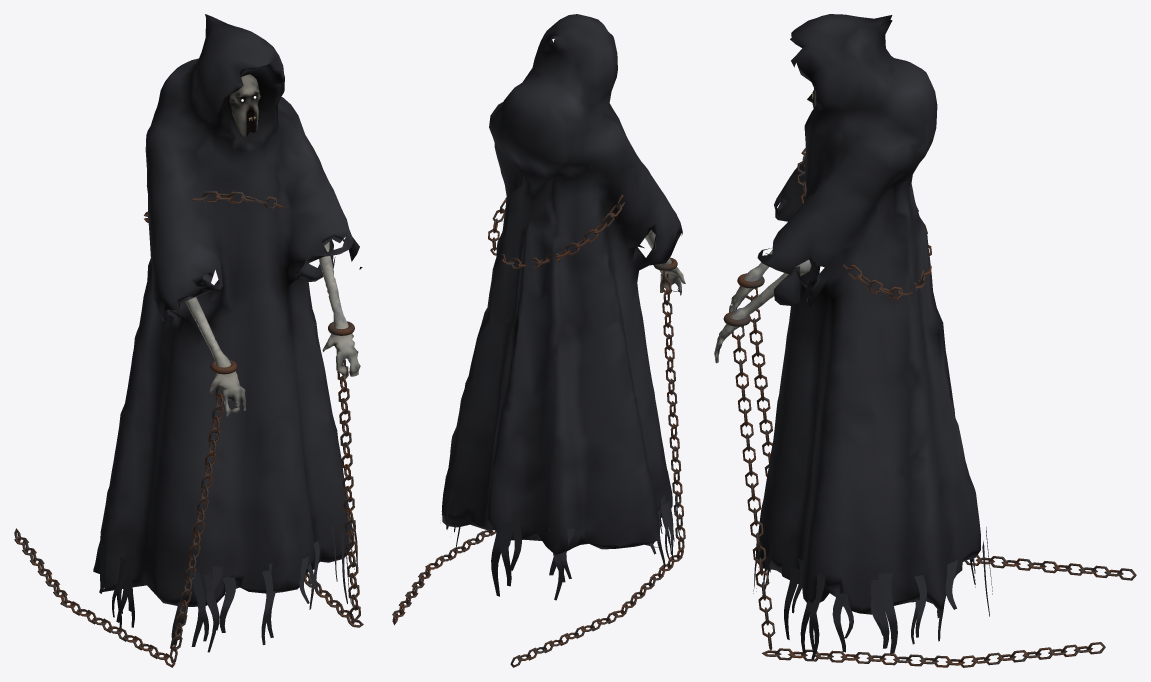
The model's file is wraith_xlo.glb.
3 views of the same model, side by side, from view 1: azimuth 30°, elevation 25°; view 2: azimuth 150°, elevation 25°; view 3: azimuth 270°, elevation 25° (orthographic). The views are drawn at different scales.
Parts seen in each view (by area): view 1: wraith; view 2: wraith; view 3: wraith.
Boxes of the visible parts, x1,y1,x2,y2 form: wraith: [14, 14, 363, 667]; wraith: [392, 14, 685, 667]; wraith: [714, 14, 1136, 667].
Bounding box in the file's own units: 1.26 × 2.92 × 1.86.
